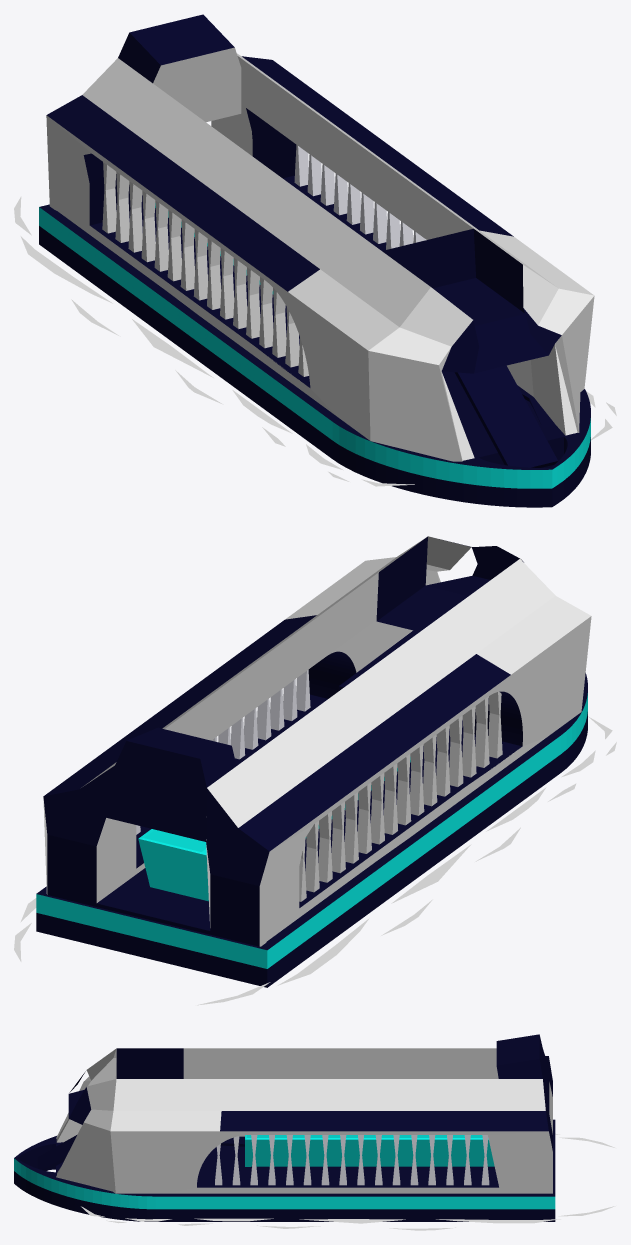
Rendered from interceptor.gltf.
3 views of the same model, one above another, from view 1: azimuth 30°, elevation 25°; view 2: azimuth 150°, elevation 25°; view 3: azimuth 270°, elevation 25° (orthographic). The views are drawn at different scales.
Visible parts, largest first — view 1: Plane, Plane001; view 2: Plane, Plane001; view 3: Plane, Plane002.
Boxes of the visible parts, box(x1,y1,x2,y2) form: Plane: box(39, 14, 594, 507); Plane001: box(14, 196, 414, 486); Plane: box(36, 536, 591, 987); Plane001: box(197, 716, 616, 1005); Plane: box(14, 1034, 555, 1221); Plane002: box(81, 1206, 615, 1230).
Size of the model in its own units: 4.11 by 2.41 by 9.62.
